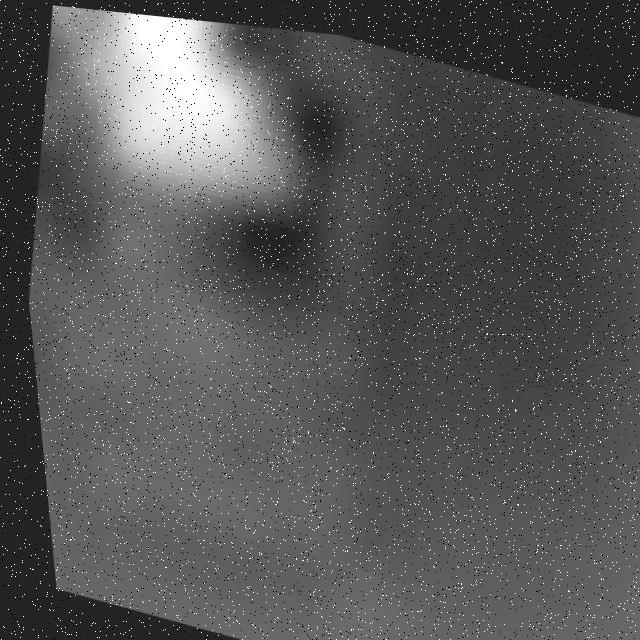person: (3, 1, 307, 344)
